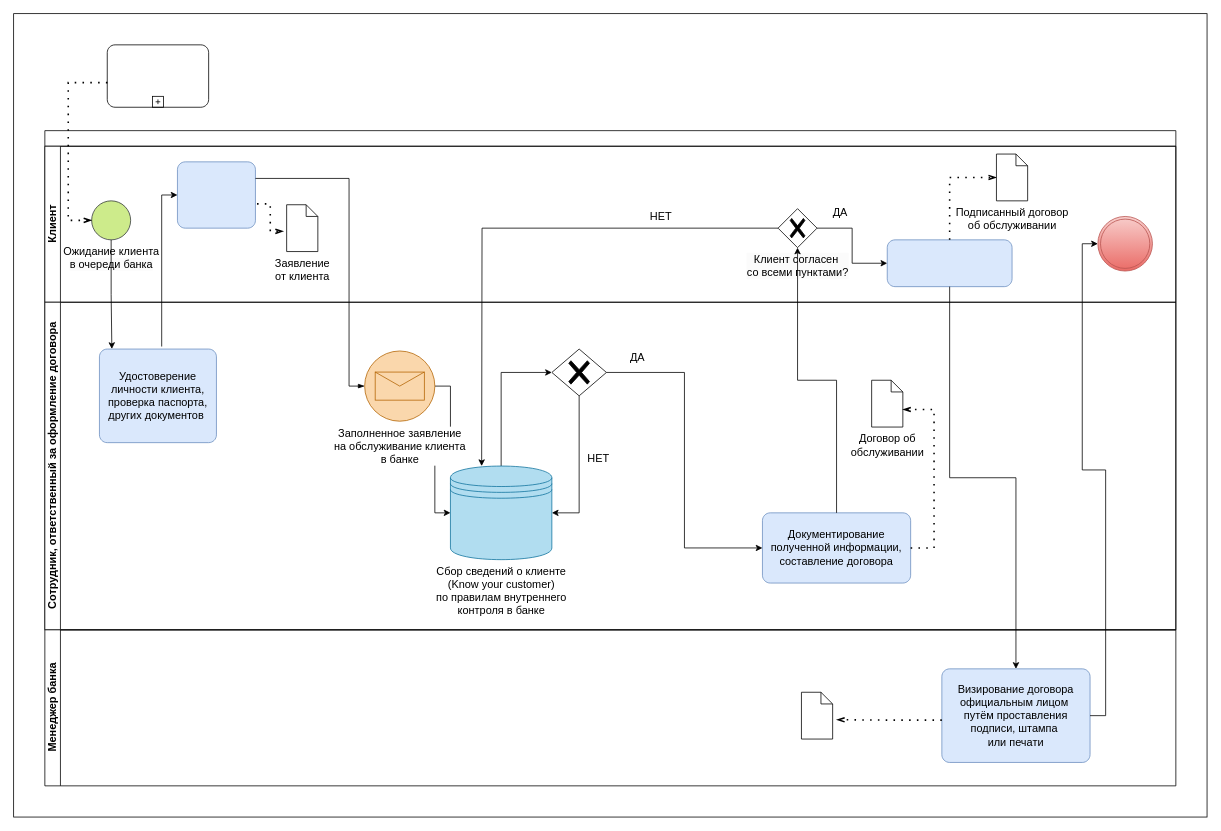
The diagram is 1221 pixels wide and 831 high, and some of its shapes have lost their labels. The shapes that lost their labels are listed below. From the top down, each one's box as (x1, y1, x2, y2) in pixels, then its label:
(106, 44, 209, 107): Телефонный звонок клиента в банк
(177, 161, 255, 228): Заполнение заявления на оформление договора
(886, 239, 1012, 287): Подписи клиента на договоре
(1097, 216, 1152, 271): Обслуживание клиента в банке
(551, 348, 606, 396): Информация собрана?
(44, 130, 1176, 630): Заключение договора о банковском обслуживании клиента
(801, 691, 833, 739): Договор об обслуживании со всеми подписями и печатями
